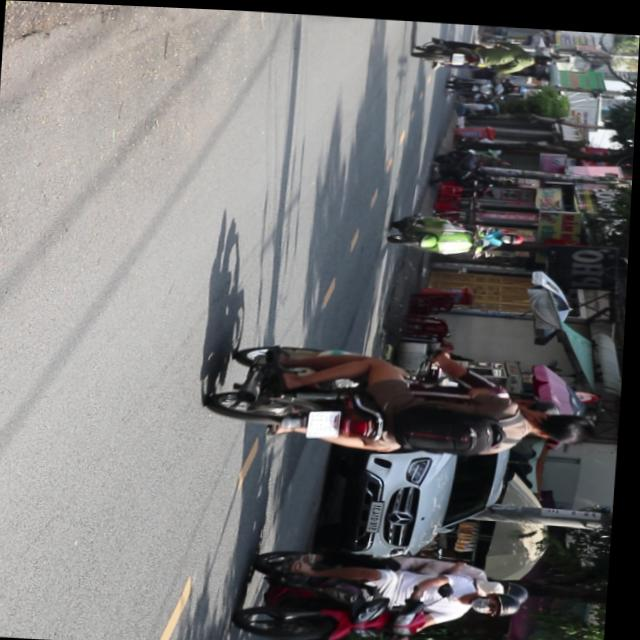helmet: (474, 585, 529, 613), (500, 575, 537, 598)
licenseplate: (207, 332, 604, 465), (241, 535, 541, 640)
motorcyclist: (527, 404, 595, 442)
nohelmet: (313, 407, 344, 435)
